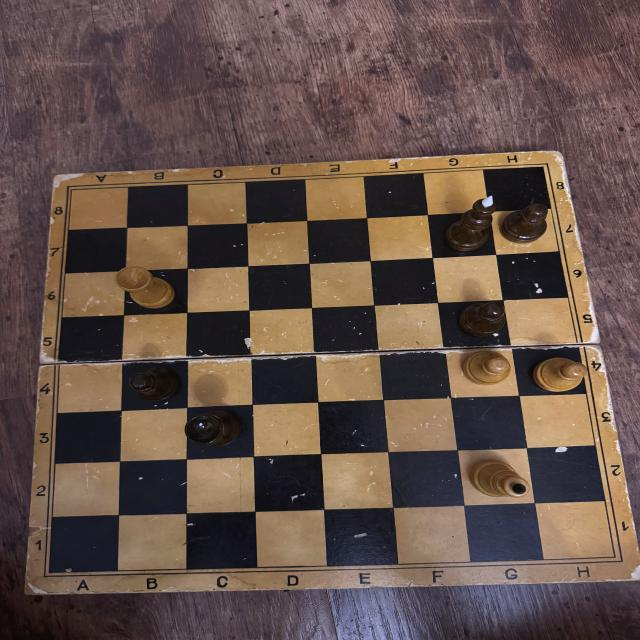black-king: (443, 194, 497, 251)
black-pawn: (499, 203, 550, 243), (130, 366, 181, 402), (459, 300, 506, 335)
black-rook: (182, 409, 244, 448)
white-king: (470, 459, 532, 500)
white-pawn: (535, 357, 586, 394), (464, 350, 509, 386)
white-rook: (116, 266, 176, 310)
